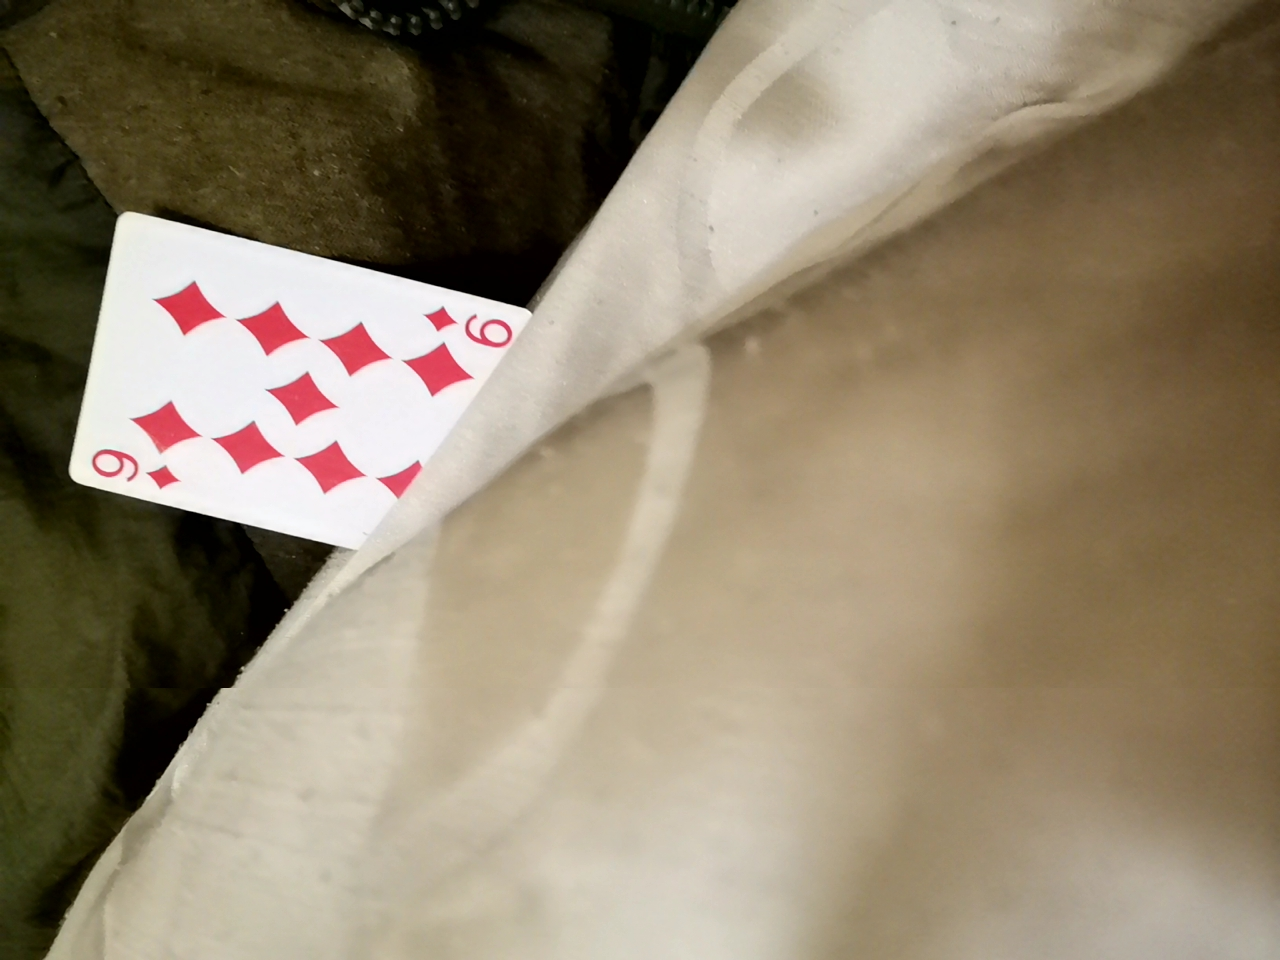fk 9: (53, 202, 535, 567)
